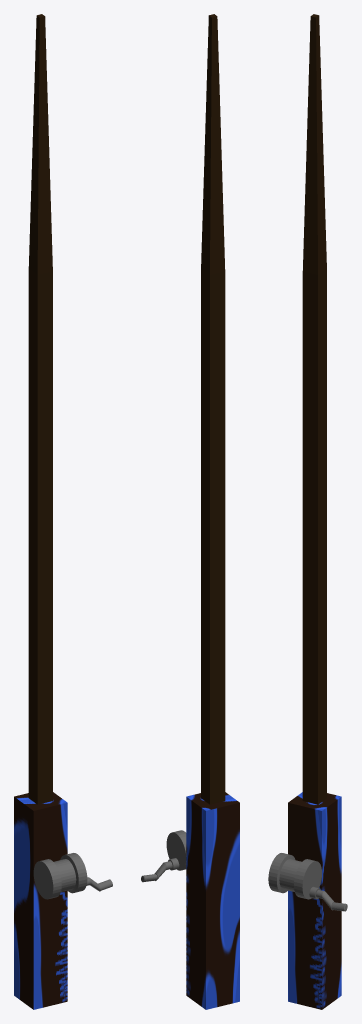
Rendered from varadepescabase.glb.
3 renders of one model, left to right at view 1: azimuth 30°, elevation 25°; view 2: azimuth 210°, elevation 25°; view 3: azimuth 330°, elevation 25°, orthographic.
Parts seen in each view (by area): view 1: Cube.001, Cube, Carretilha; view 2: Cube.001, Cube, Carretilha; view 3: Cube.001, Cube, Carretilha.
Boxes of the visible parts, x1,y1,x2,y2 form: Cube.001: (28, 14, 52, 804); Cube: (14, 792, 67, 1009); Carretilha: (33, 853, 112, 899); Cube.001: (201, 14, 225, 804); Cube: (186, 792, 239, 1009); Carretilha: (141, 830, 186, 882); Cube.001: (302, 14, 326, 804); Cube: (288, 792, 341, 1009); Carretilha: (268, 853, 347, 911).
Bounding box in the file's own units: 4.01 × 55.13 × 4.
3 materials, 1 textured.
